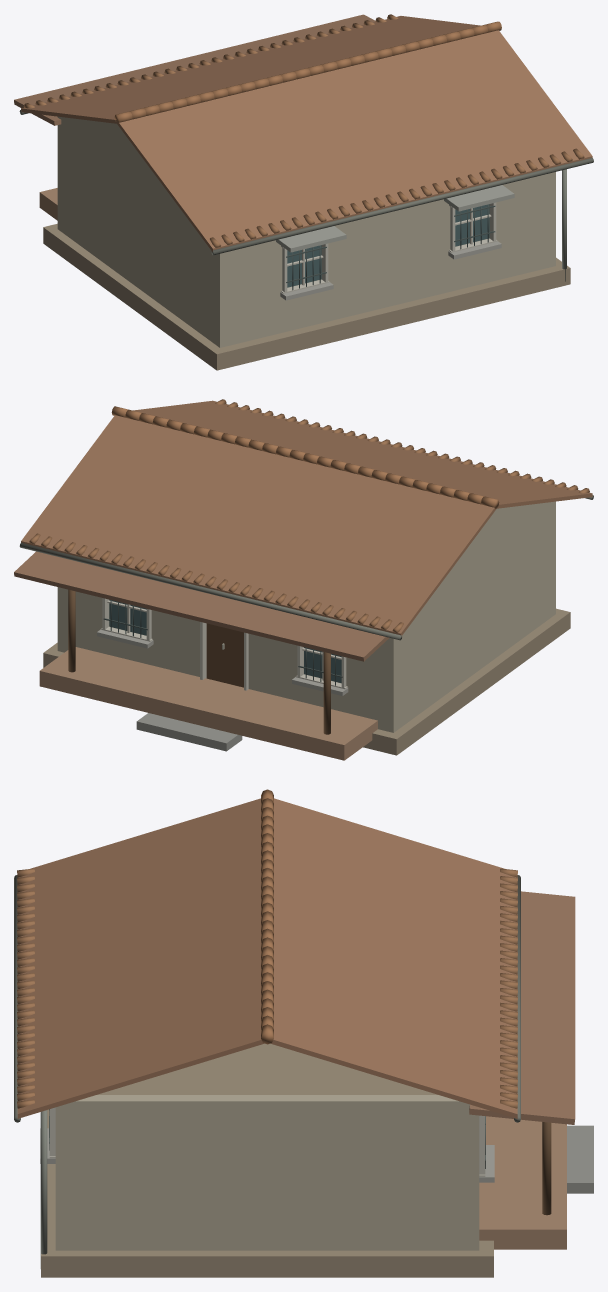
Rendered from tiled_house.glb.
3 views of the same model, one above another, from view 1: azimuth 30°, elevation 25°; view 2: azimuth 150°, elevation 25°; view 3: azimuth 270°, elevation 25° (orthographic). The views are drawn at different scales.
Parts seen in each view (by area): view 1: tiled_house; view 2: tiled_house; view 3: tiled_house.
Part boxes in pixels (x1=…): tiled_house: x1=14, y1=14, x2=593, y2=370; tiled_house: x1=14, y1=399, x2=593, y2=760; tiled_house: x1=14, y1=789, x2=593, y2=1277.
Size of the model in its own units: 9.79 by 4.78 by 9.86.
